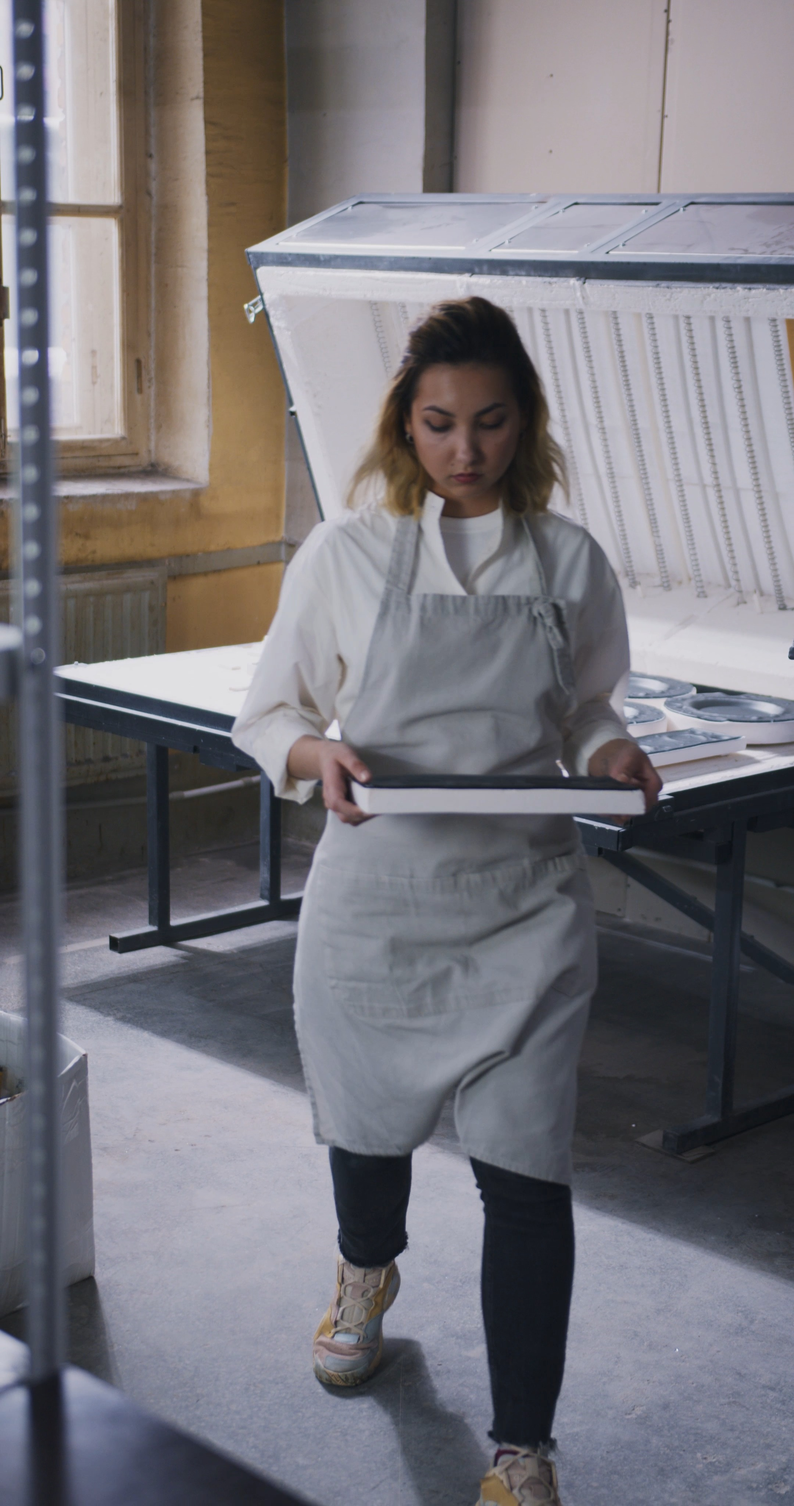No-gloves: (279, 717, 428, 866), (594, 698, 680, 849)
